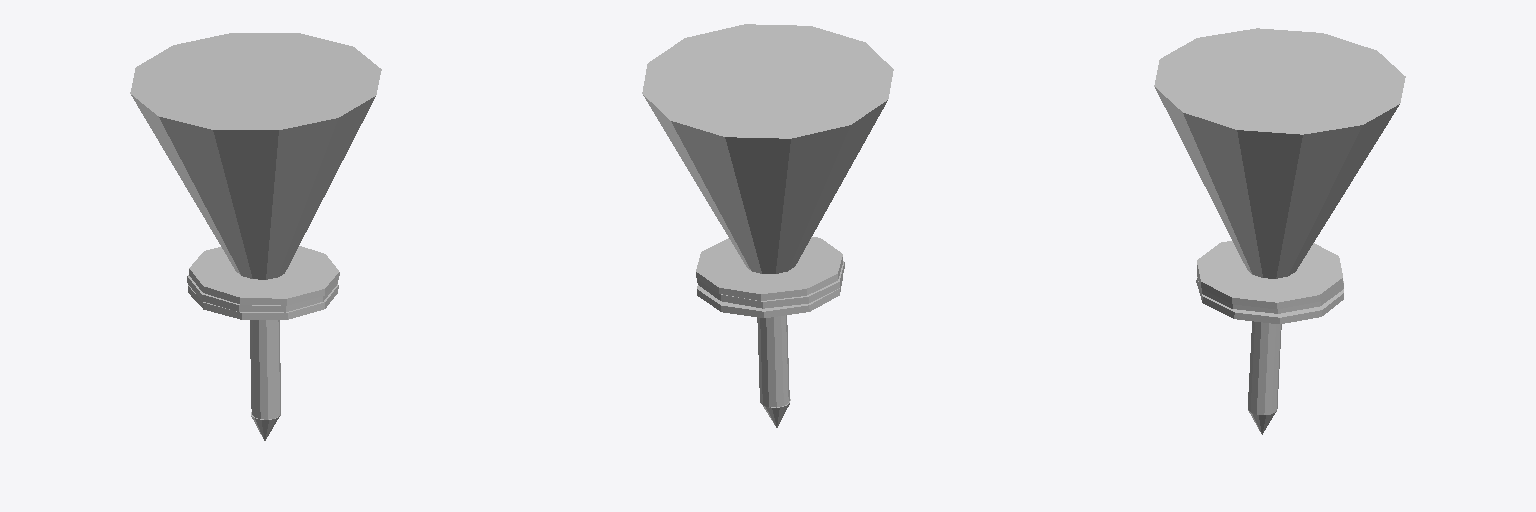
File: pin.obj
The picture shows the model from 3 angles: view 1: azimuth 30°, elevation 25°; view 2: azimuth 150°, elevation 25°; view 3: azimuth 270°, elevation 25°; orthographic projection.
Visible parts, largest first — view 1: group[number redacted], group[number redacted], group[number redacted], group[number redacted], group[number redacted]; view 2: group[number redacted], group[number redacted], group[number redacted], group[number redacted], group[number redacted]; view 3: group[number redacted], group[number redacted], group[number redacted], group[number redacted], group[number redacted].
Part boxes in pixels (bbox=[...]): group[number redacted]: bbox=[130, 33, 381, 279]; group[number redacted]: bbox=[189, 246, 339, 305]; group[number redacted]: bbox=[250, 320, 280, 419]; group[number redacted]: bbox=[188, 284, 338, 319]; group[number redacted]: bbox=[187, 275, 337, 312]; group[number redacted]: bbox=[642, 24, 893, 273]; group[number redacted]: bbox=[696, 237, 842, 300]; group[number redacted]: bbox=[757, 315, 789, 407]; group[number redacted]: bbox=[697, 277, 842, 317]; group[number redacted]: bbox=[697, 261, 844, 308]; group[number redacted]: bbox=[1154, 28, 1405, 278]; group[number redacted]: bbox=[1197, 241, 1342, 308]; group[number redacted]: bbox=[1248, 321, 1281, 414]; group[number redacted]: bbox=[1196, 277, 1343, 323]; group[number redacted]: bbox=[1197, 272, 1343, 313].
Bounding box in the file's own units: 0.1672 × 0.263 × 0.1671.